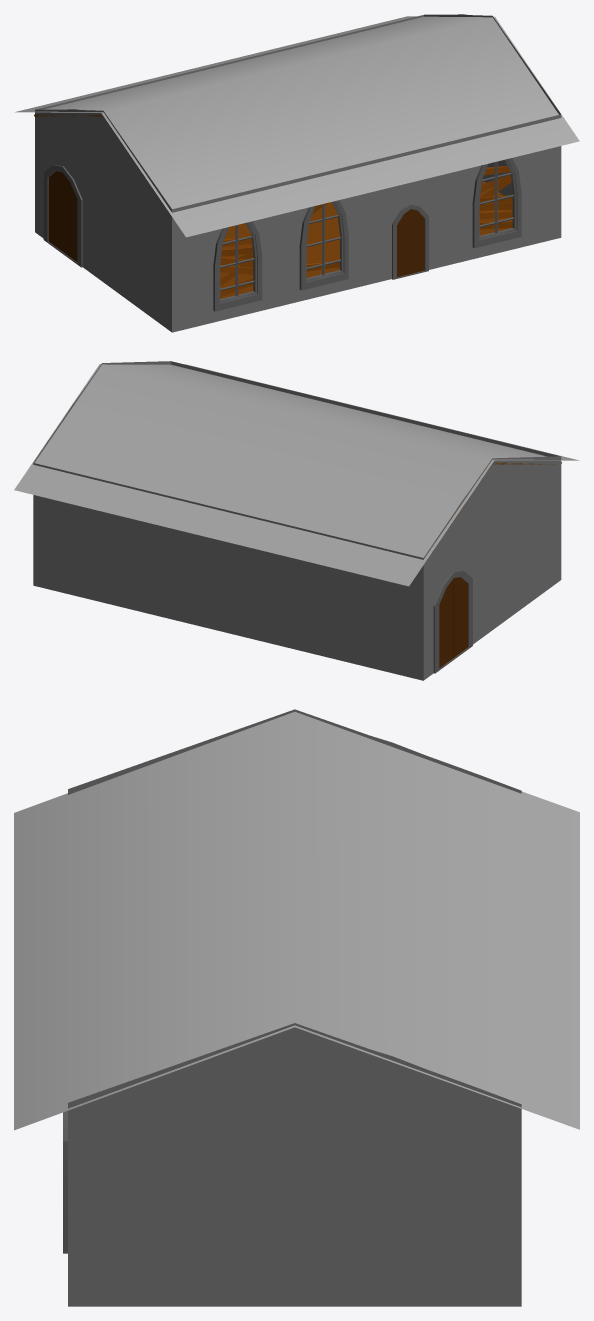
File: room2_v001.fbx
3 renders of one model, top to bottom at view 1: azimuth 30°, elevation 25°; view 2: azimuth 150°, elevation 25°; view 3: azimuth 270°, elevation 25°, orthographic. The views are drawn at different scales.
Visible parts, largest first — view 1: roofShelter, room1, window3, window2, window1, door1, doubleDoorFrame1, doubleDoor2, doubleDoor1, doorFrame1; view 2: roofShelter, room1, doubleDoorFrame1, doubleDoor1, doubleDoor2; view 3: roofShelter, room1.
Boxes of the visible parts, x1=… form: roofShelter: x1=15, y1=16, x2=579, y2=237; room1: x1=35, y1=14, x2=561, y2=332; window3: x1=472, y1=158, x2=521, y2=248; window2: x1=213, y1=221, x2=262, y2=311; window1: x1=299, y1=200, x2=348, y2=290; door1: x1=397, y1=209, x2=424, y2=277; doubleDoorFrame1: x1=43, y1=165, x2=82, y2=267; doubleDoor2: x1=48, y1=171, x2=63, y2=251; doubleDoor1: x1=63, y1=173, x2=77, y2=261; doorFrame1: x1=392, y1=204, x2=428, y2=279; roofShelter: x1=14, y1=364, x2=579, y2=586; room1: x1=33, y1=361, x2=561, y2=680; doubleDoorFrame1: x1=433, y1=570, x2=472, y2=673; doubleDoor1: x1=453, y1=577, x2=467, y2=657; doubleDoor2: x1=439, y1=579, x2=453, y2=668; roofShelter: x1=14, y1=711, x2=579, y2=1130; room1: x1=68, y1=709, x2=521, y2=1306.
Size of the model in its own units: 1826 by 760 by 1373.
